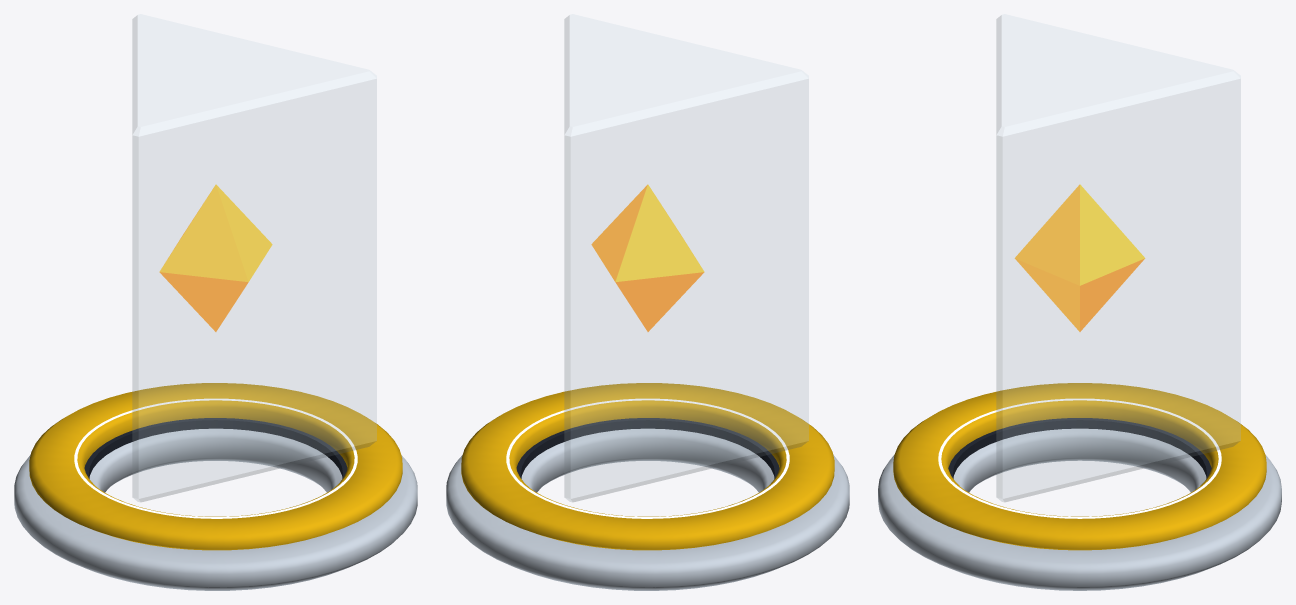
File: optic-prism.glb
3 views of the same model, side by side, from view 1: azimuth 30°, elevation 25°; view 2: azimuth 150°, elevation 25°; view 3: azimuth 270°, elevation 25° (orthographic).
Parts seen in each view (by area): view 1: CrystalPrism, FloatingCrown, PedestalRing, InnerCore, Isolator, GuideLight; view 2: CrystalPrism, FloatingCrown, PedestalRing, InnerCore, Isolator, GuideLight; view 3: CrystalPrism, FloatingCrown, PedestalRing, InnerCore, Isolator, GuideLight.
Part boxes in pixels (<box>): CrystalPrism: <box>132,14,376,501</box>; FloatingCrown: <box>29,383,402,550</box>; PedestalRing: <box>14,428,417,590</box>; InnerCore: <box>159,184,272,331</box>; Isolator: <box>84,418,347,478</box>; GuideLight: <box>74,398,357,518</box>; CrystalPrism: <box>564,14,808,501</box>; FloatingCrown: <box>461,383,834,550</box>; PedestalRing: <box>446,428,849,590</box>; InnerCore: <box>591,184,704,331</box>; Isolator: <box>516,418,779,478</box>; GuideLight: <box>506,398,789,518</box>; CrystalPrism: <box>996,14,1240,501</box>; FloatingCrown: <box>893,383,1266,550</box>; PedestalRing: <box>878,428,1281,590</box>; InnerCore: <box>1014,184,1145,331</box>; Isolator: <box>948,418,1211,478</box>; GuideLight: <box>938,398,1221,518</box>.
Size of the model in its own units: 2.32 by 2.8 by 2.32.
